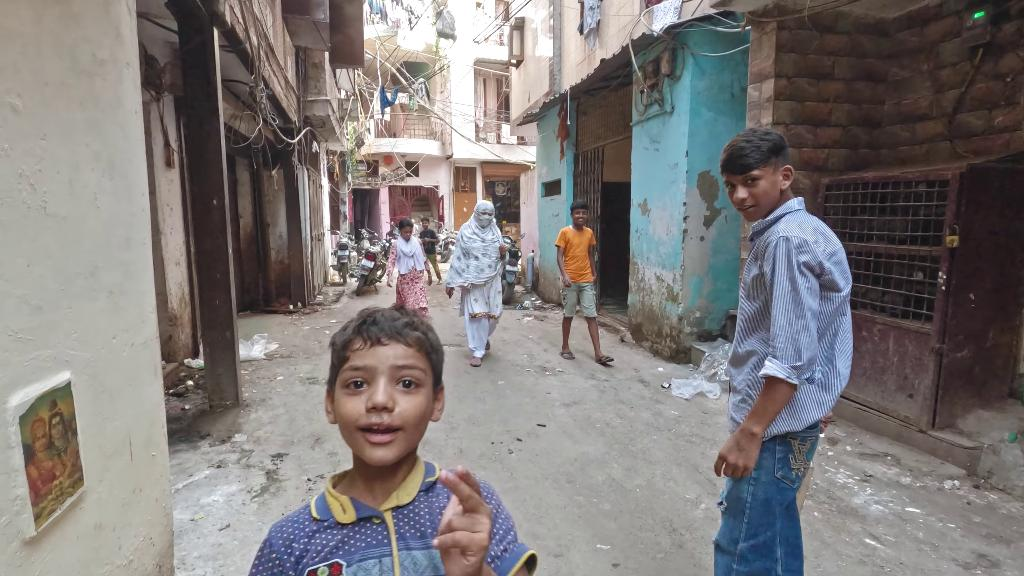garbage: (234, 332, 281, 363), (670, 378, 720, 399), (522, 301, 532, 309)
